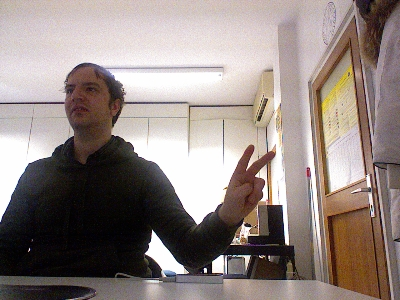剪刀: (221, 143, 275, 218)
